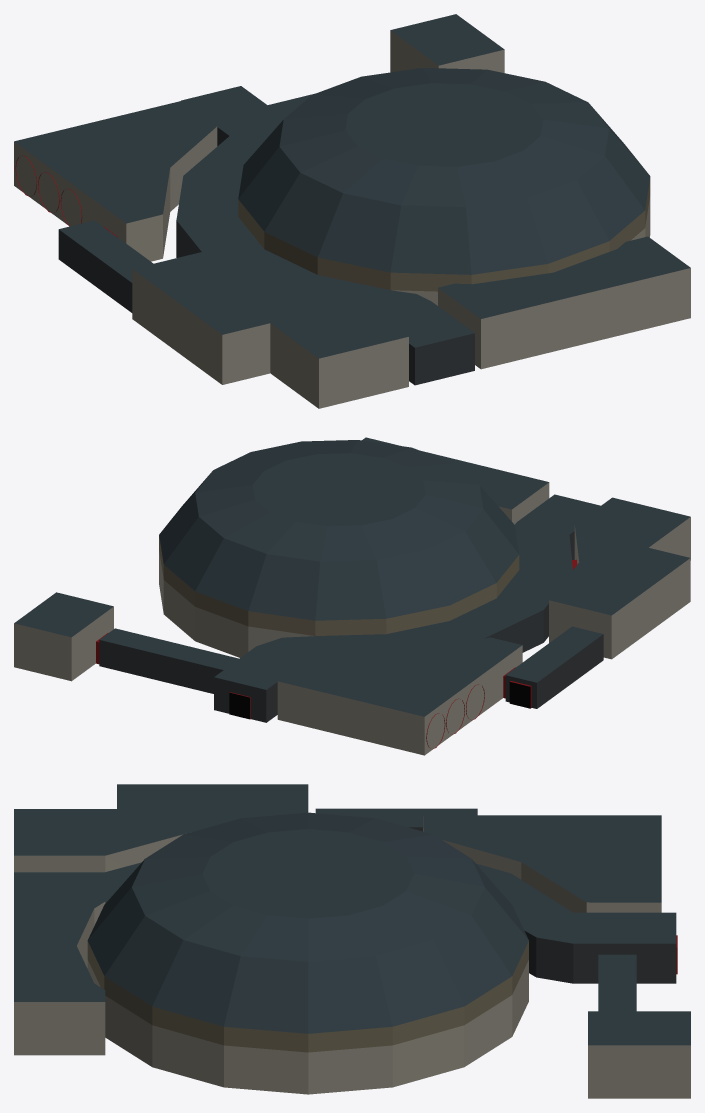
Rendered from Temp_ShipInterior.fbx.
3 views of the same model, one above another, from view 1: azimuth 30°, elevation 25°; view 2: azimuth 150°, elevation 25°; view 3: azimuth 270°, elevation 25° (orthographic). The views are drawn at different scales.
Parts seen in each view (by area): view 1: Temp_ShipInterior; view 2: Temp_ShipInterior; view 3: Temp_ShipInterior.
Boxes of the visible parts, x1=… form: Temp_ShipInterior: x1=14, y1=14, x2=690, y2=408; Temp_ShipInterior: x1=14, y1=437, x2=690, y2=755; Temp_ShipInterior: x1=14, y1=784, x2=690, y2=1098.
Bounding box in the file's own units: 4200 × 1002 × 4600.
Materials: 1 (1 with a texture image).
